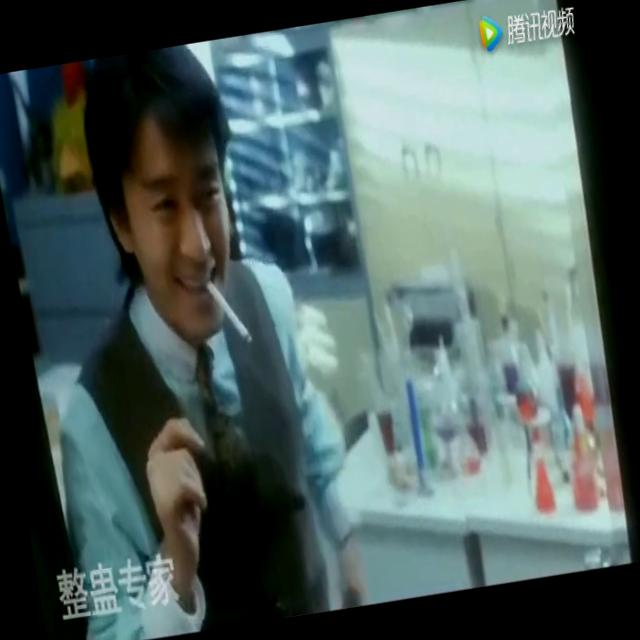cigarette: (205, 277, 254, 350)
